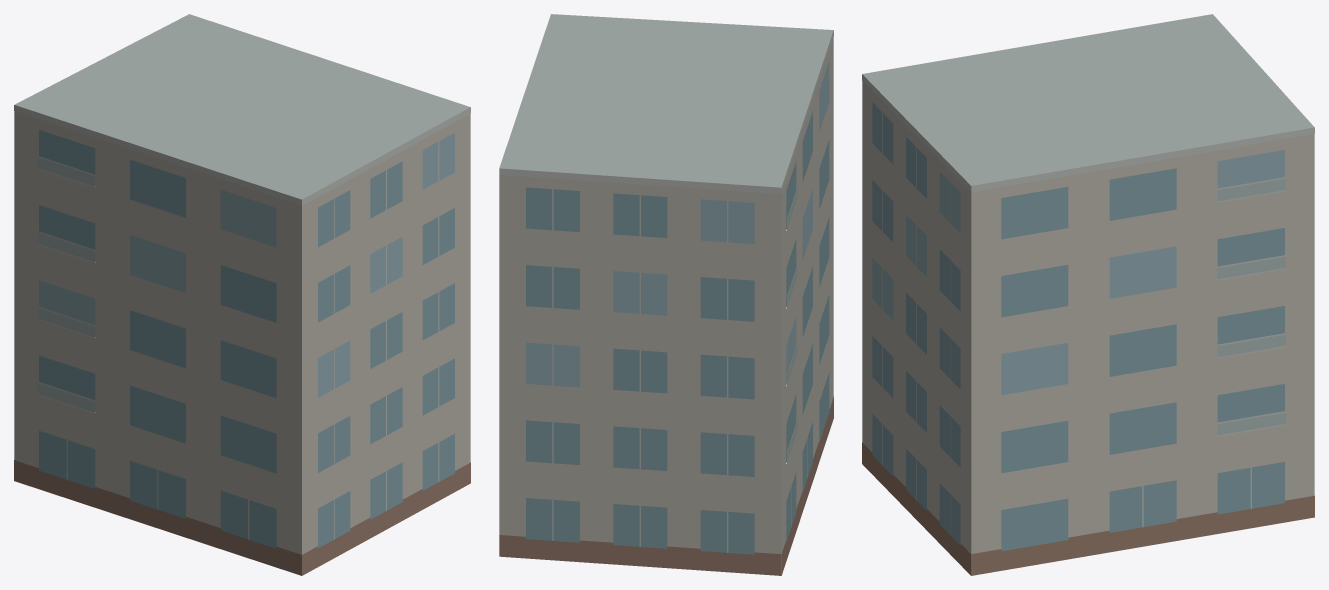
The model's file is survey-upis-33001994.glb.
3 renders of one model, left to right at view 1: azimuth 30°, elevation 25°; view 2: azimuth 150°, elevation 25°; view 3: azimuth 270°, elevation 25°, orthographic. The views are drawn at different scales.
Visible parts, largest first — view 1: survey-upis-33001994.tmp; view 2: survey-upis-33001994.tmp; view 3: survey-upis-33001994.tmp.
Part boxes in pixels (left/top/right/bottom): survey-upis-33001994.tmp: left=14, top=14, right=470, bottom=575; survey-upis-33001994.tmp: left=499, top=14, right=833, bottom=575; survey-upis-33001994.tmp: left=862, top=14, right=1314, bottom=575.
Size of the model in its own units: 13.91 by 14.7 by 15.48.
